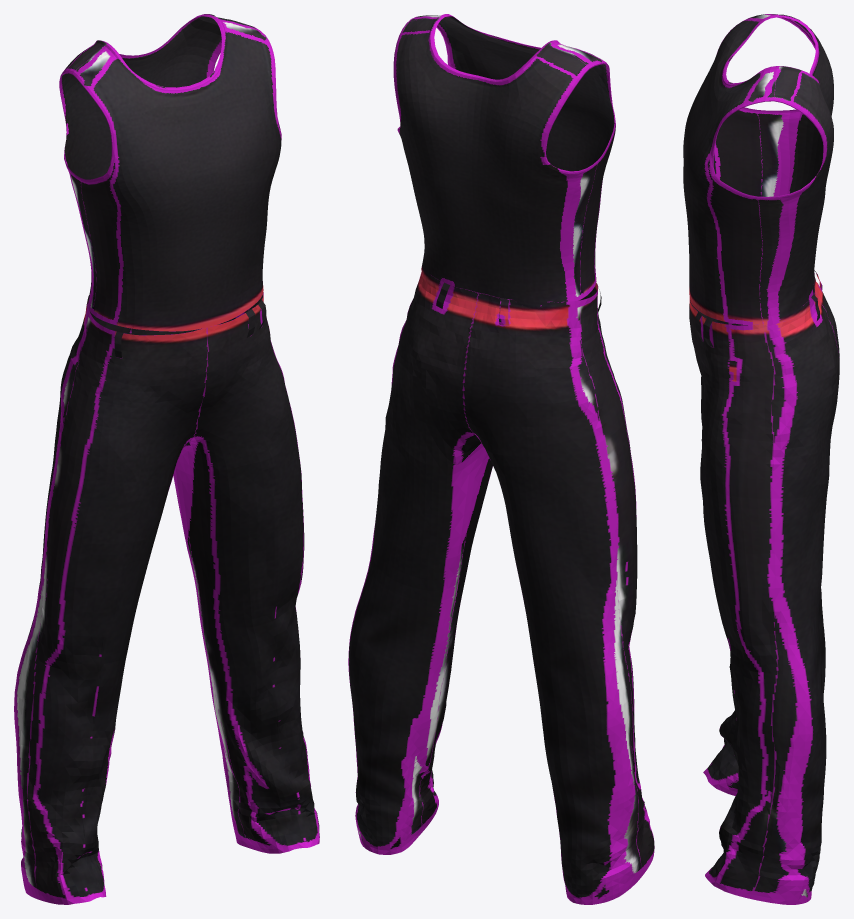
The picture shows the model from 3 angles, left to right: view 1: azimuth 30°, elevation 25°; view 2: azimuth 150°, elevation 25°; view 3: azimuth 270°, elevation 25°; orthographic projection. The views are drawn at different scales.
Bounding box in the file's own units: 0.3996 × 1.15 × 0.2027.
1 material, 1 textured.
